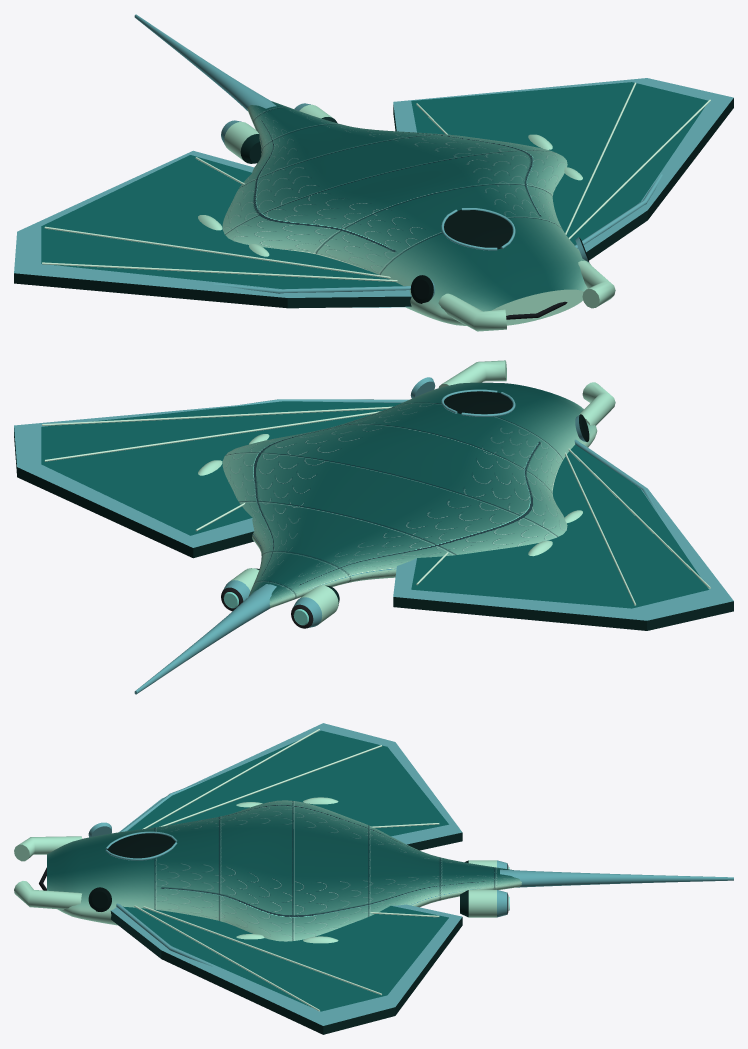
3 renders of one model, top to bottom at view 1: azimuth 30°, elevation 25°; view 2: azimuth 150°, elevation 25°; view 3: azimuth 270°, elevation 25°, orthographic. The views are drawn at different scales.
Visible parts, largest first — view 1: manta_ray_hull; view 2: manta_ray_hull; view 3: manta_ray_hull.
Part boxes in pixels (x1,y1,x2,y2): manta_ray_hull: (14,14,733,331); manta_ray_hull: (14,360,733,694); manta_ray_hull: (14,723,733,1034).
Size of the model in its own units: 81.66 by 9.18 by 82.
1 material, 1 textured.
